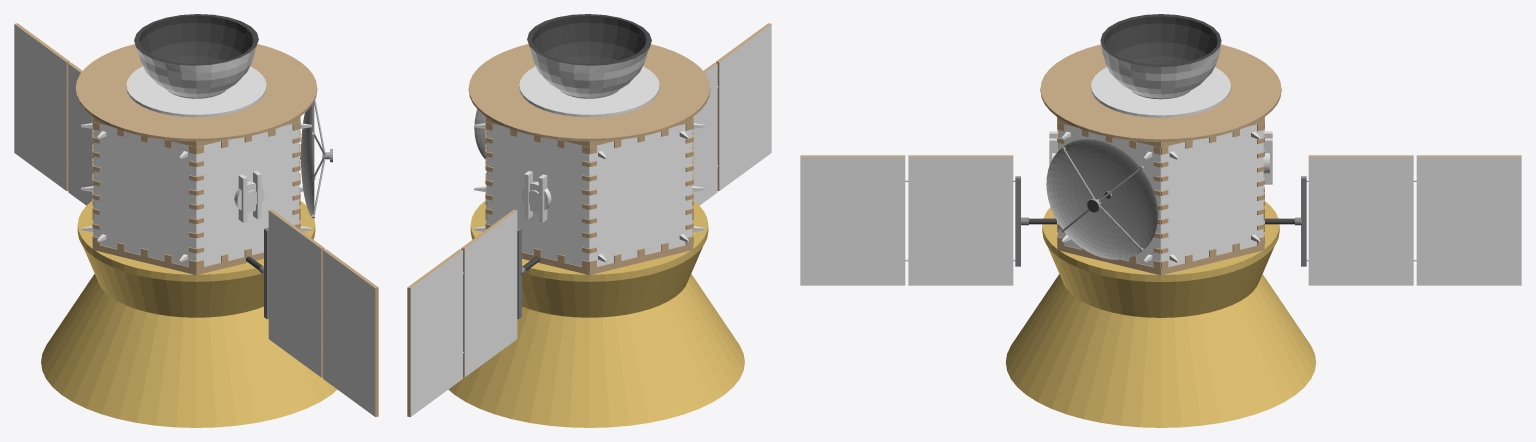
Rendered from tess.glb.
3 views of the same model, side by side, from view 1: azimuth 30°, elevation 25°; view 2: azimuth 150°, elevation 25°; view 3: azimuth 270°, elevation 25° (orthographic).
Visible parts, largest first — view 1: Layer_1, Layer_0; view 2: Layer_1, Layer_0; view 3: Layer_1, Layer_0.
Boxes of the visible parts, x1,y1,x2,y2 form: Layer_1: (41, 14, 337, 427); Layer_0: (14, 23, 378, 417); Layer_1: (448, 14, 744, 427); Layer_0: (407, 23, 771, 417); Layer_1: (1005, 14, 1316, 427); Layer_0: (800, 155, 1521, 285).
Size of the model in its own units: 1.68 by 1.92 by 3.9.
